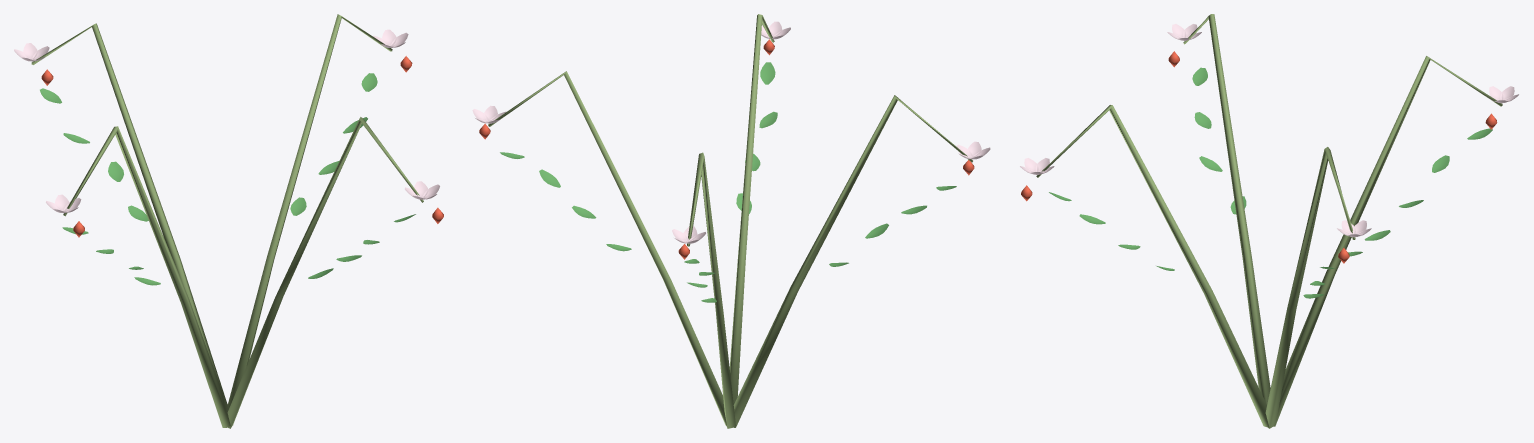
File: shrub_wild_briar_rose.glb
The picture shows the model from 3 angles, left to right: view 1: azimuth 30°, elevation 25°; view 2: azimuth 150°, elevation 25°; view 3: azimuth 270°, elevation 25°; orthographic projection. The views are drawn at different scales.
Parts seen in each view (by area): view 1: Flora_Briar_Rose; view 2: Flora_Briar_Rose; view 3: Flora_Briar_Rose.
Boxes of the visible parts, x1,y1,x2,y2 form: Flora_Briar_Rose: (14, 14, 443, 428); Flora_Briar_Rose: (472, 14, 990, 428); Flora_Briar_Rose: (1020, 14, 1518, 428).
Size of the model in its own units: 1.91 by 1.47 by 1.92.
